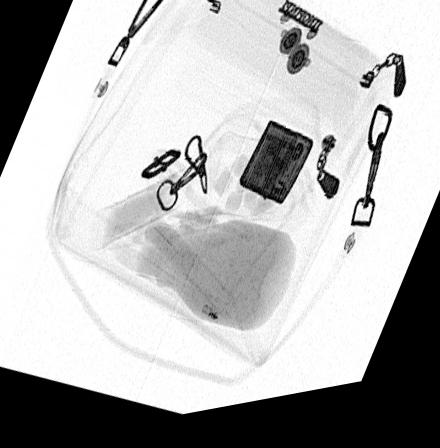Lighter: (238, 128, 313, 218)
